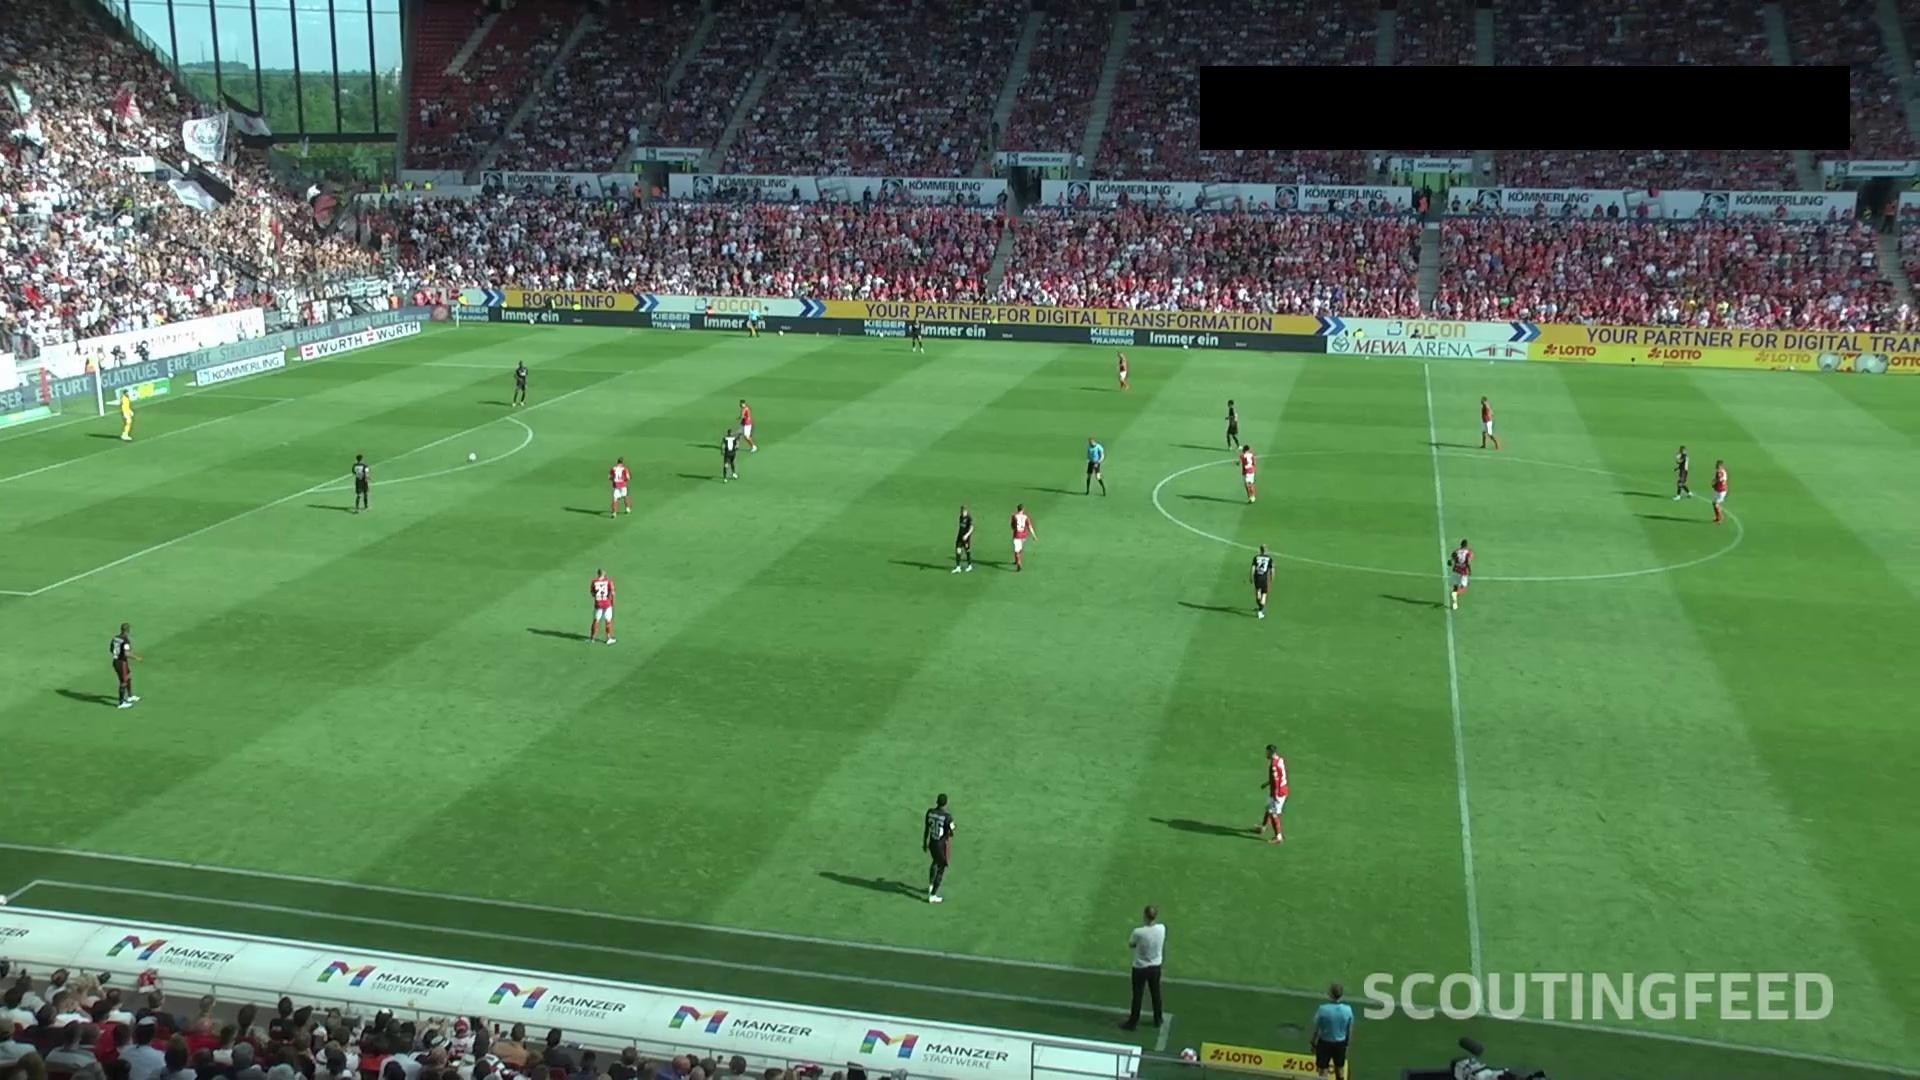Location-of-ball: (463, 452, 480, 467)
